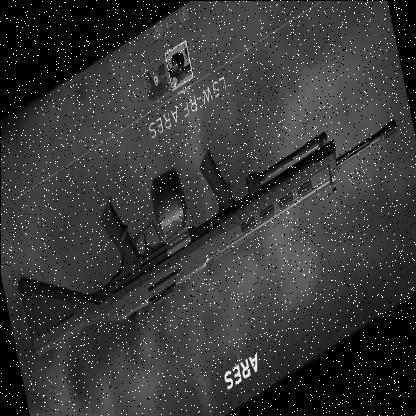rifle: (9, 15, 402, 387)
